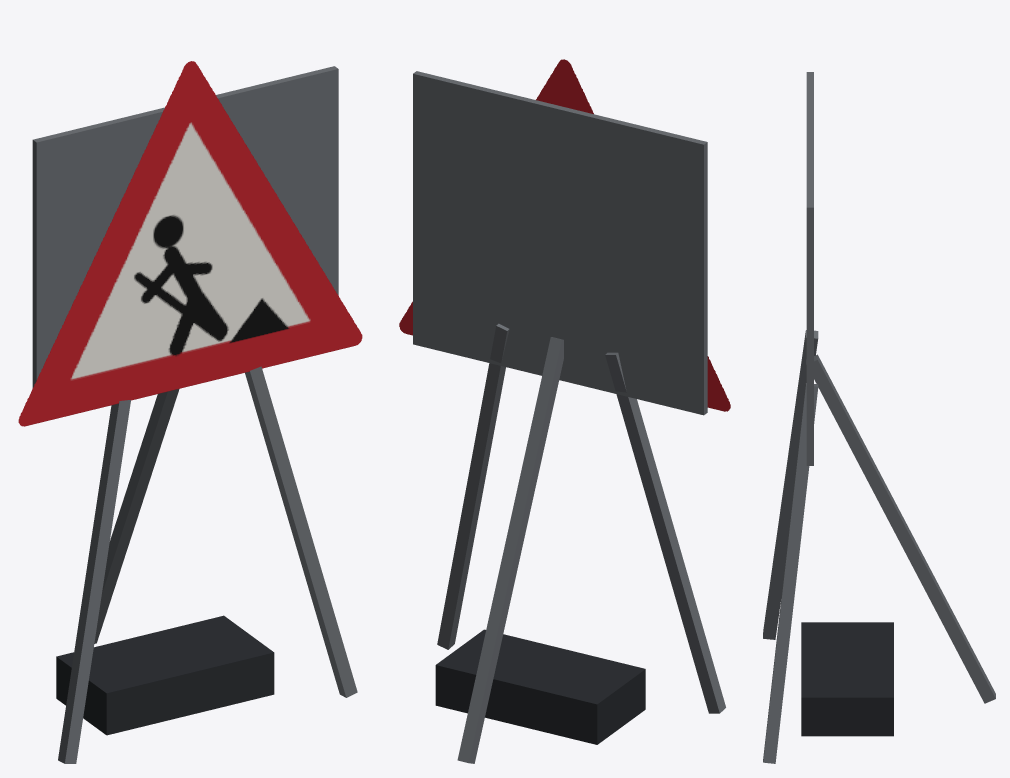
File: roadworks-sign.obj
3 renders of one model, left to right at view 1: azimuth 30°, elevation 25°; view 2: azimuth 150°, elevation 25°; view 3: azimuth 270°, elevation 25°, orthographic. The views are drawn at different scales.
Parts seen in each view (by area): view 1: part4, part5.nocast, part6, part1, part2, part3; view 2: part5.nocast, part6, part3, part1, part2, part4; view 3: part6, part3, part2, part1, part5.nocast.
Part boxes in pixels (bbox=[...]): part4: bbox=[18, 61, 362, 426]; part5.nocast: bbox=[32, 66, 338, 387]; part6: bbox=[56, 615, 274, 735]; part1: bbox=[58, 400, 130, 763]; part2: bbox=[245, 366, 357, 697]; part3: bbox=[94, 389, 179, 643]; part5.nocast: bbox=[413, 71, 707, 415]; part6: bbox=[435, 629, 645, 744]; part3: bbox=[457, 337, 563, 763]; part1: bbox=[605, 352, 725, 713]; part2: bbox=[437, 323, 509, 649]; part4: bbox=[399, 59, 730, 411]; part6: bbox=[801, 622, 893, 736]; part3: bbox=[806, 354, 995, 703]; part2: bbox=[763, 383, 818, 763]; part1: bbox=[763, 330, 818, 639]; part5.nocast: bbox=[806, 72, 813, 465].
Size of the model in its own units: 1.05 by 1.88 by 0.6534.
3 materials, 1 textured.
